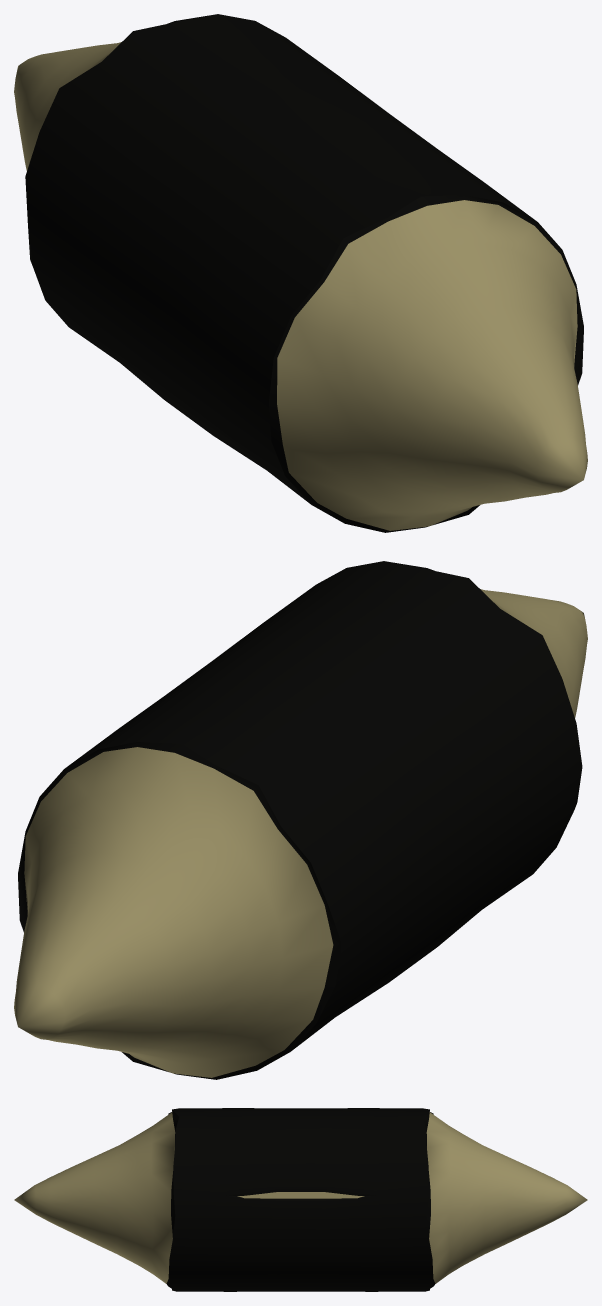
Rendered from SM_buche-1mX1m_A_v01.FBX.
The picture shows the model from 3 angles, top to bottom: view 1: azimuth 30°, elevation 25°; view 2: azimuth 150°, elevation 25°; view 3: azimuth 270°, elevation 25°; orthographic projection. The views are drawn at different scales.
Visible parts, largest first — view 1: SM_buche-1mX1m_A; view 2: SM_buche-1mX1m_A; view 3: SM_buche-1mX1m_A.
Part boxes in pixels (x1,y1,x2,y2): SM_buche-1mX1m_A: (14,14,587,532); SM_buche-1mX1m_A: (14,561,587,1079); SM_buche-1mX1m_A: (14,1108,587,1291).
Bounding box in the file's own units: 0.752 × 0.7516 × 2.33.
